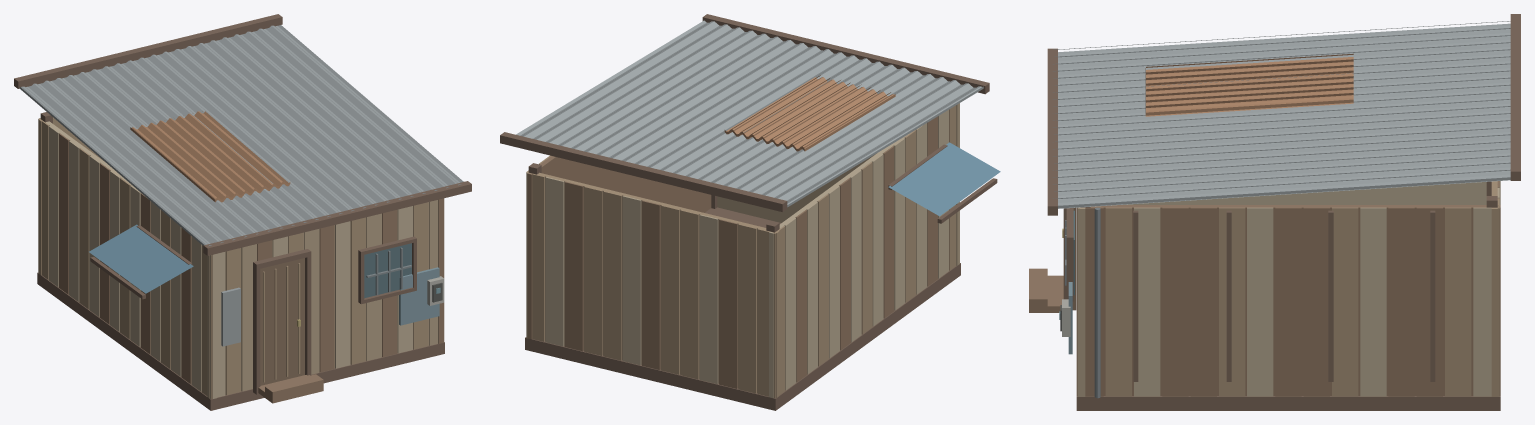
Rendered from SH01_Patched_Timber_Shack.glb.
3 views of the same model, side by side, from view 1: azimuth 30°, elevation 25°; view 2: azimuth 150°, elevation 25°; view 3: azimuth 270°, elevation 25° (orthographic). The views are drawn at different scales.
Parts seen in each view (by area): view 1: 090_Main_roof_sheet, 093_Main_roof_patch, 070_Front_door_door, 001_Raised_floor, 094_Side_tarp, 091_Main_roof_front_fascia, 092_Main_roof_back_fascia, 010_Front_wall_plank_08, 011_Front_wall_plank_09, 012_Front_wall_plank_10, 005_Front_wall_plank_03, 037_Left_wall_plank_05 (+36 smaller); view 2: 090_Main_roof_sheet, 001_Raised_floor, 093_Main_roof_patch, 050_Right_wall_backing, 094_Side_tarp, 092_Main_roof_back_fascia, 018_Rear_wall_backing, 029_Rear_wall_plank_11, 022_Rear_wall_plank_04, 026_Rear_wall_plank_08, 030_Rear_wall_plank_12, 023_Rear_wall_plank_05 (+29 smaller); view 3: 090_Main_roof_sheet, 093_Main_roof_patch, 050_Right_wall_backing, 001_Raised_floor, 054_Right_wall_plank_04, 055_Right_wall_plank_05, 058_Right_wall_plank_08, 062_Right_wall_plank_12, 052_Right_wall_plank_02, 059_Right_wall_plank_09, 061_Right_wall_plank_11, 064_Right_wall_plank_14 (+21 smaller).
Part boxes in pixels (box(x1,y1,x2,y2)): 090_Main_roof_sheet: box(19, 25, 463, 246); 093_Main_roof_patch: box(130, 111, 290, 202); 070_Front_door_door: box(260, 258, 304, 385); 001_Raised_floor: box(37, 272, 444, 410); 094_Side_tarp: box(89, 224, 193, 293); 091_Main_roof_front_fascia: box(203, 181, 471, 255); 092_Main_roof_back_fascia: box(14, 14, 282, 88); 010_Front_wall_plank_08: box(319, 225, 334, 372); 011_Front_wall_plank_09: box(335, 221, 350, 368); 012_Front_wall_plank_10: box(350, 217, 365, 364); 005_Front_wall_plank_03: box(241, 244, 256, 391); 037_Left_wall_plank_05: box(79, 148, 89, 309); 090_Main_roof_sheet: box(516, 20, 983, 207); 001_Raised_floor: box(525, 207, 960, 410); 093_Main_roof_patch: box(724, 75, 895, 151); 050_Right_wall_backing: box(527, 156, 711, 339); 094_Side_tarp: box(888, 142, 1000, 216); 092_Main_roof_back_fascia: box(500, 132, 787, 212); 018_Rear_wall_backing: box(526, 170, 779, 397); 029_Rear_wall_plank_11: box(564, 181, 583, 351); 022_Rear_wall_plank_04: box(699, 214, 718, 384); 026_Rear_wall_plank_08: box(622, 196, 641, 365); 030_Rear_wall_plank_12: box(545, 177, 564, 346); 023_Rear_wall_plank_05: box(680, 210, 699, 379); 090_Main_roof_sheet: box(1053, 21, 1510, 208); 093_Main_roof_patch: box(1145, 53, 1353, 116); 050_Right_wall_backing: box(1076, 205, 1500, 395); 001_Raised_floor: box(1076, 396, 1500, 410); 054_Right_wall_plank_04: box(1388, 207, 1414, 396); 055_Right_wall_plank_05: box(1360, 207, 1386, 396); 058_Right_wall_plank_08: box(1275, 207, 1301, 396); 062_Right_wall_plank_12: box(1162, 207, 1188, 396); 052_Right_wall_plank_02: box(1445, 207, 1471, 396); 059_Right_wall_plank_09: box(1247, 207, 1273, 396); 061_Right_wall_plank_11: box(1190, 207, 1216, 396); 064_Right_wall_plank_14: box(1105, 207, 1131, 396).
Bounding box in the file's own units: 5 × 3.23 × 5.8.
